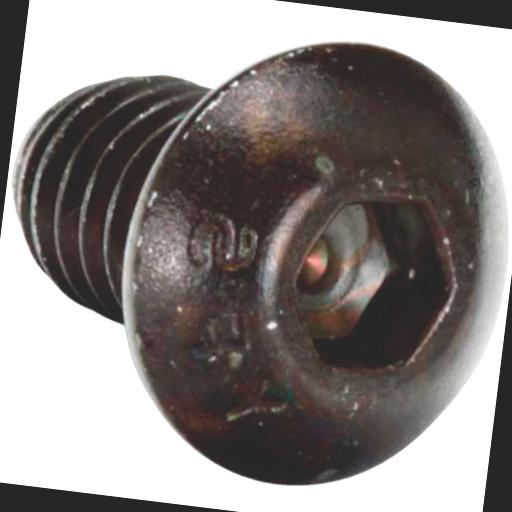Hex-Allen: (105, 13, 512, 508)
